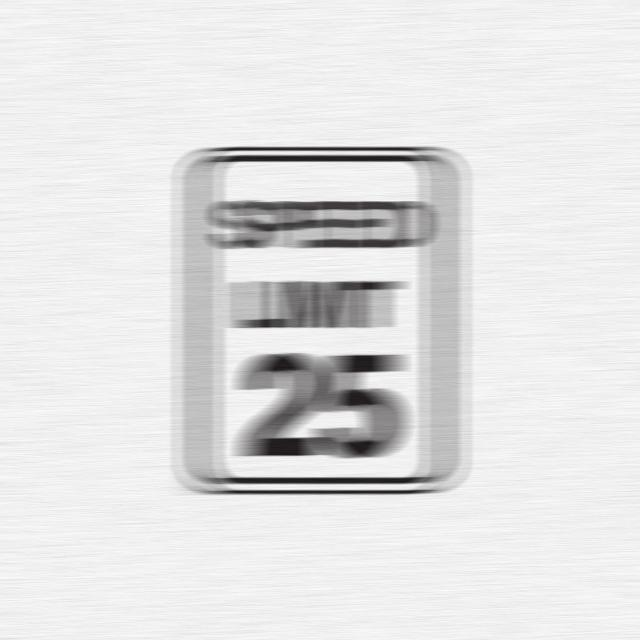speedLimit25: (182, 146, 460, 492)
